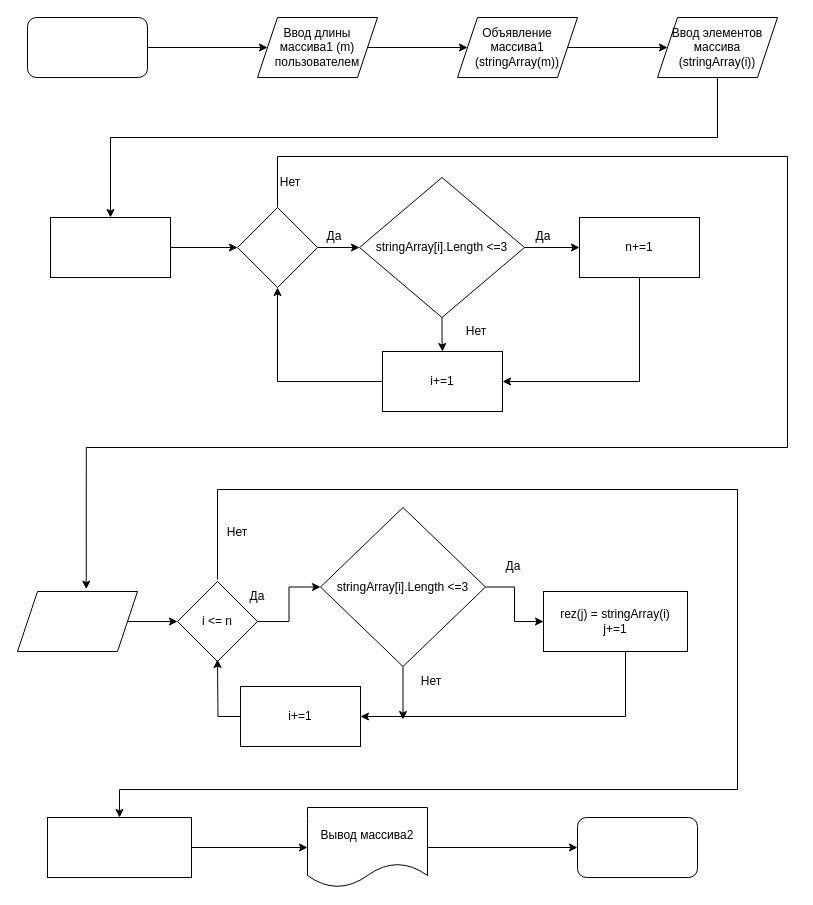
The diagram is 813 pixels wide and 905 high, and some of its shapes have lost their labels. The shapes that lost their labels are listed below. From the top down, each one's centre as x and y in pixels, then its label:
point (87, 47): Начало
point (110, 247): Определение кол-ва элементов (n) длиной не более трех знаков
point (277, 247): i <= m
point (77, 621): Ввод элементов массива2 ( rez(j))
point (119, 847): Объявление массива2 rez(n)
point (637, 847): Конец
